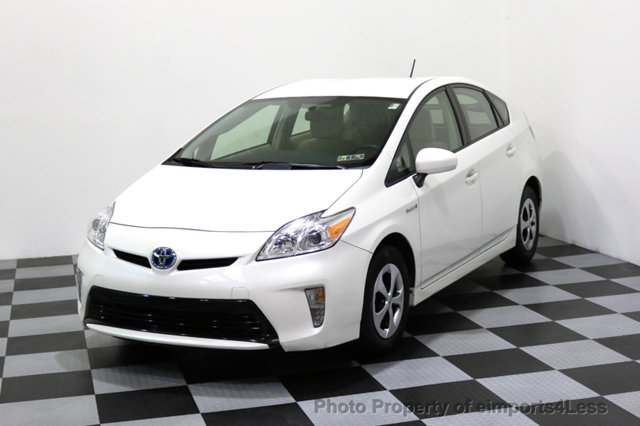Toyota Prius: (65, 73, 547, 367)
